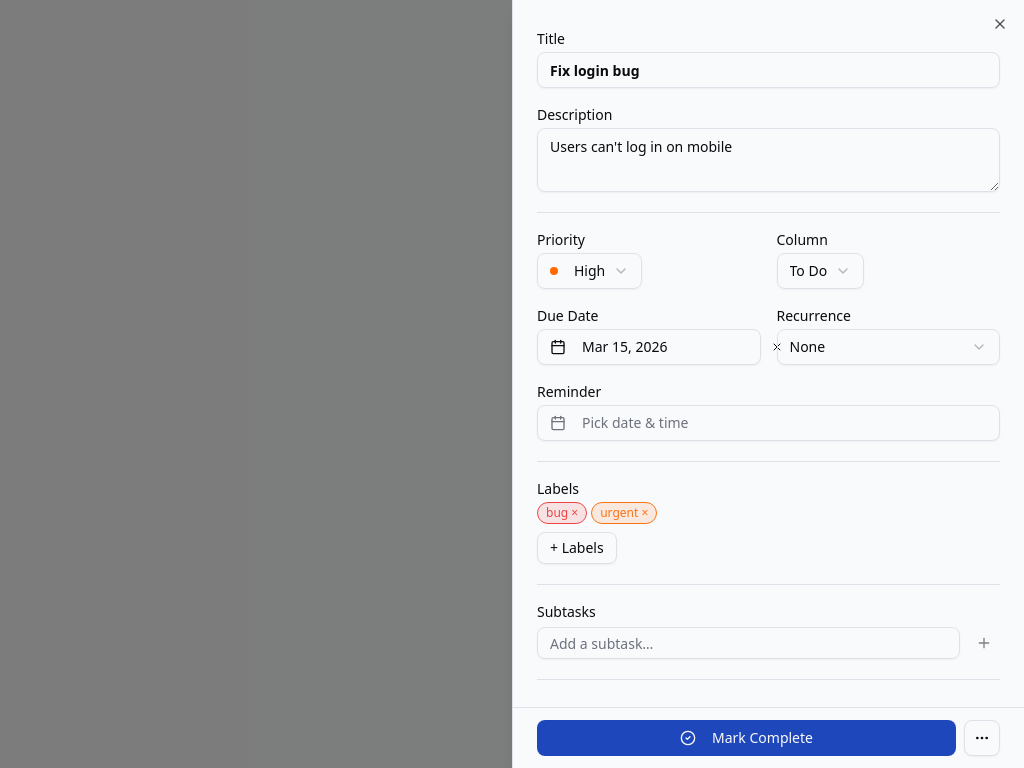
TaskSheet › shows Delete in overflow menu
The width and height of the screenshot is (1024, 768).
Click the button named "More actions" at (982, 738), box top-left (964, 720), bottom-right (1000, 756)
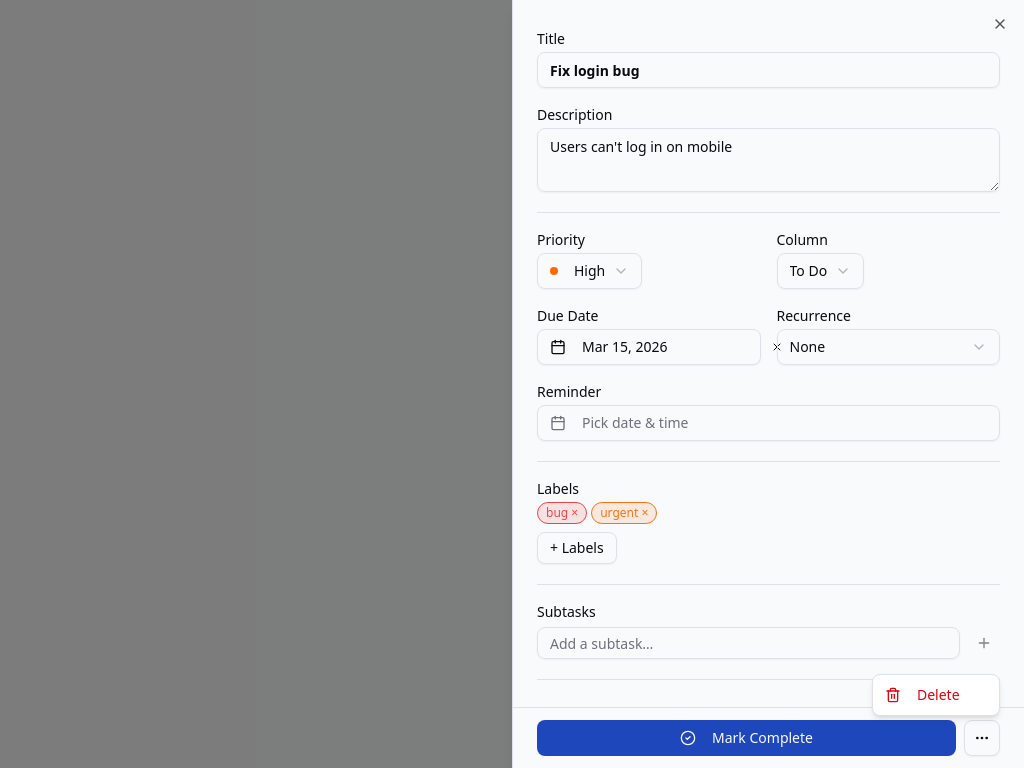
Now the menu item "Delete" is shown, box top-left (885, 685), bottom-right (960, 704)
